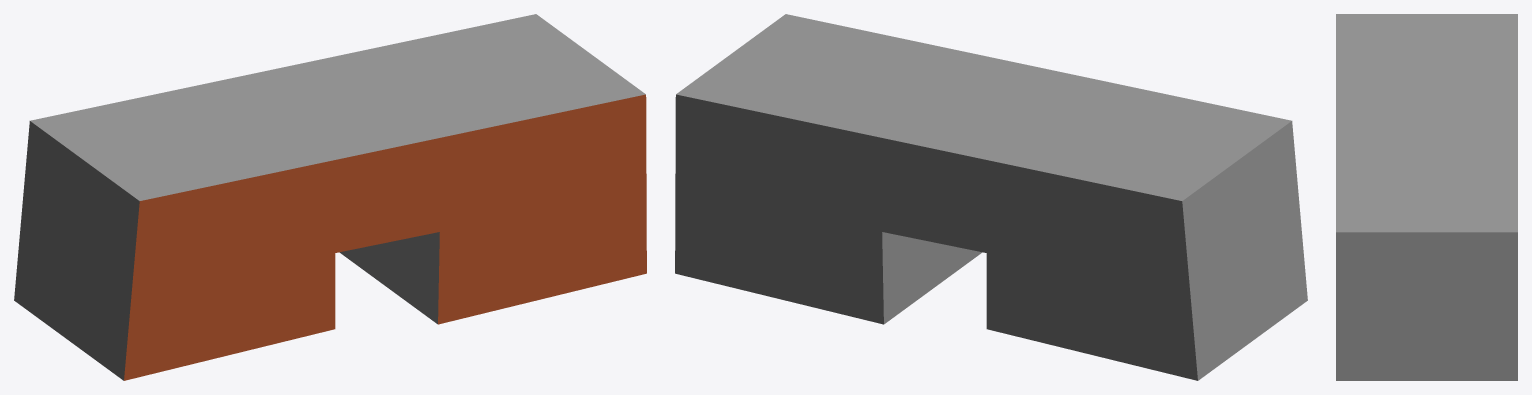
Rendered from construction_0876_assumed_A_Casa_h6m.obj.
3 renders of one model, left to right at view 1: azimuth 30°, elevation 25°; view 2: azimuth 150°, elevation 25°; view 3: azimuth 270°, elevation 25°, orthographic. The views are drawn at different scales.
Parts seen in each view (by area): view 1: construction_0876_assumed_A_Casa; view 2: construction_0876_assumed_A_Casa; view 3: construction_0876_assumed_A_Casa.
Part boxes in pixels (x1,y1,x2,y2): construction_0876_assumed_A_Casa: (14, 14, 646, 380); construction_0876_assumed_A_Casa: (675, 14, 1307, 380); construction_0876_assumed_A_Casa: (1336, 14, 1517, 380).
Size of the model in its own units: 16.48 by 5.91 by 6.
